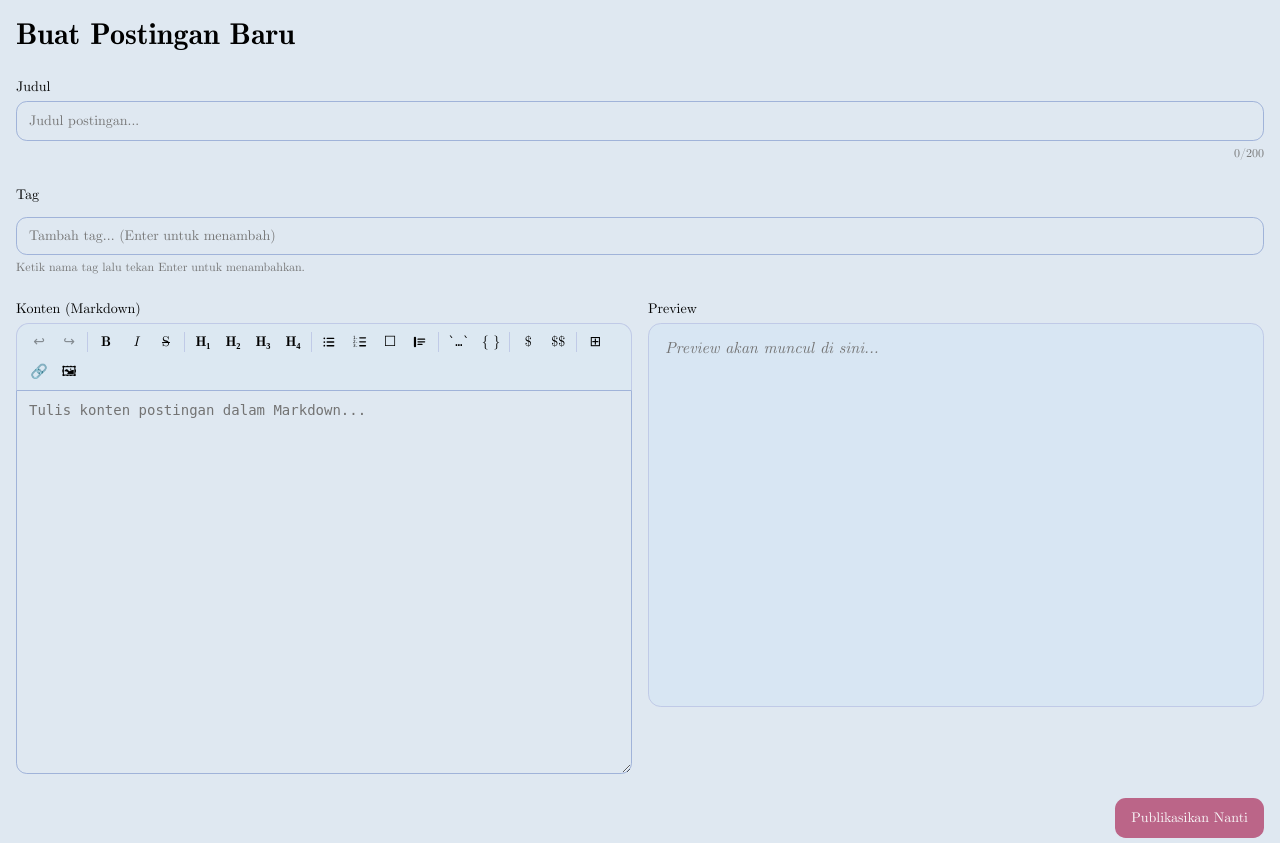
Test case: CreatePostPage › shows validation errors when both fields are empty
(page scrolled)
Click the button "Publikasikan Nanti" at (1190,818), box x1=1115 y1=798 x2=1264 y2=838
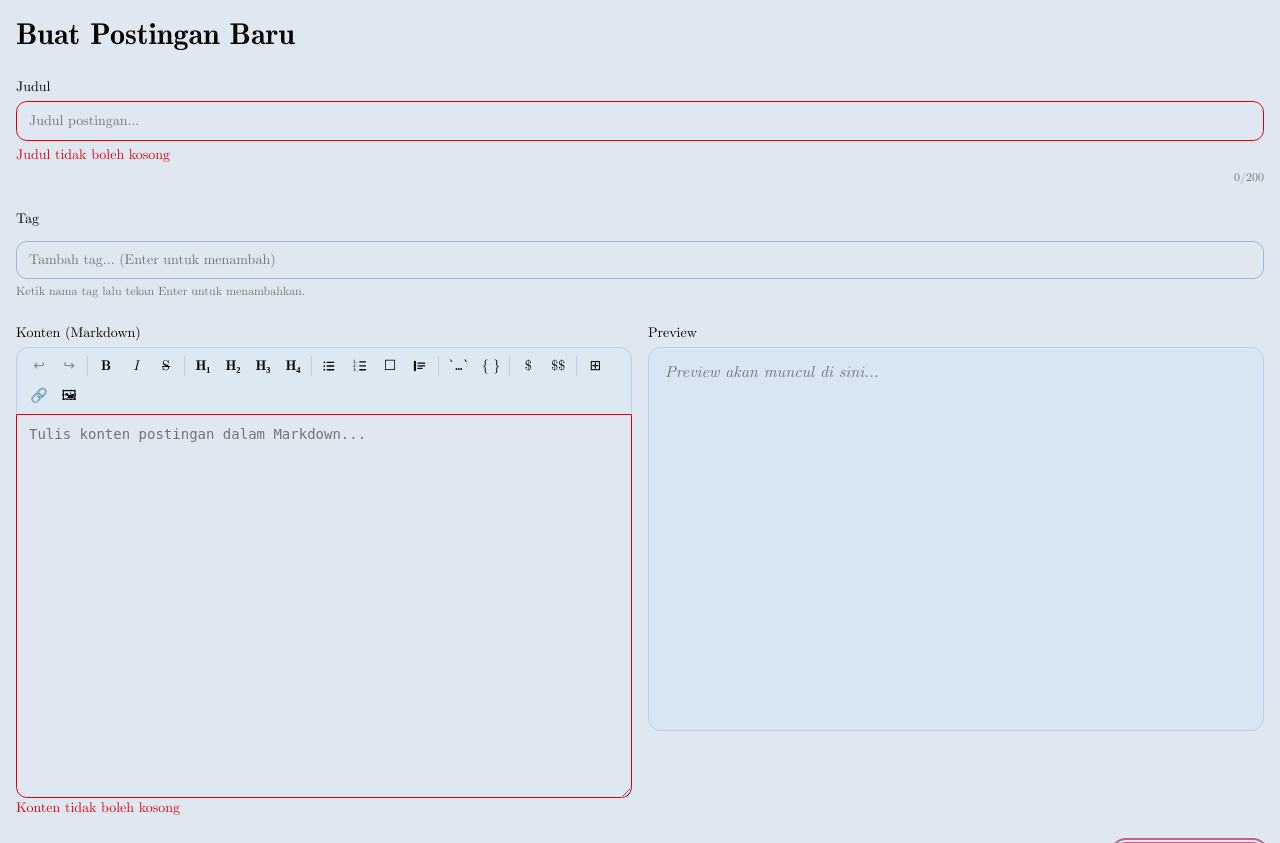
Check: the text "Judul tidak boleh kosong" is shown, box x1=16 y1=148 x2=170 y2=162
Check: the text "Konten tidak boleh kosong" is shown, box x1=16 y1=801 x2=180 y2=815
